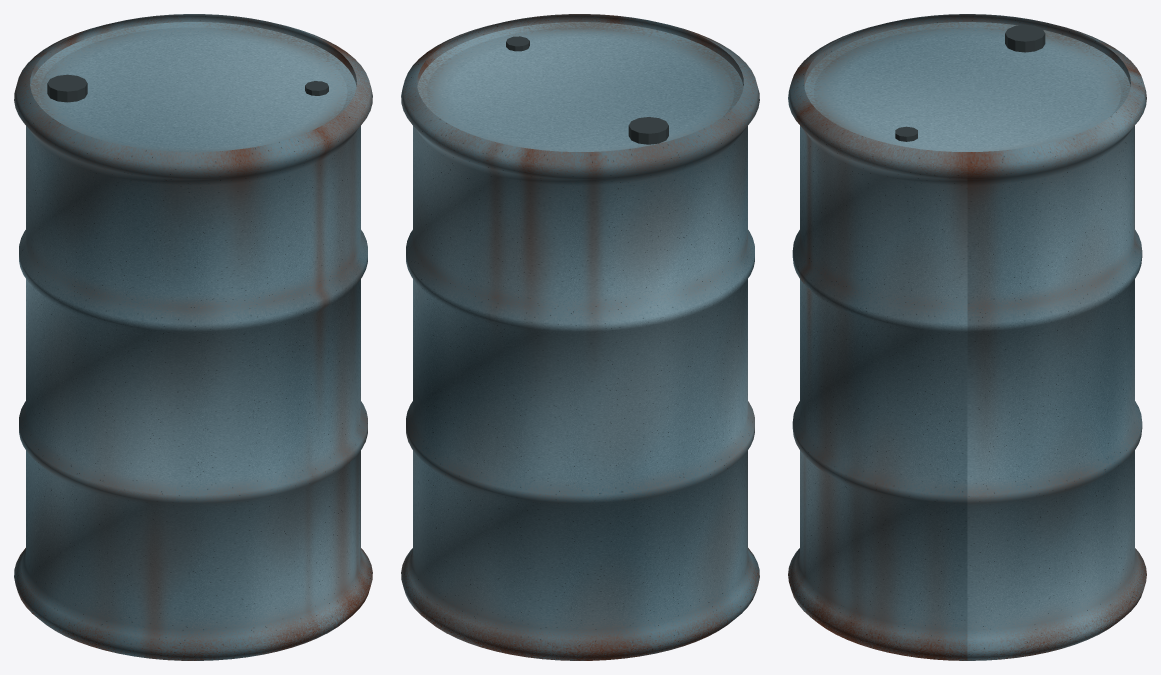
Rendered from FuelDrum_A.glb.
The picture shows the model from 3 angles, left to right: view 1: azimuth 30°, elevation 25°; view 2: azimuth 150°, elevation 25°; view 3: azimuth 270°, elevation 25°; orthographic projection.
Parts seen in each view (by area): view 1: FuelDrum_A; view 2: FuelDrum_A; view 3: FuelDrum_A.
Boxes of the visible parts, x1=… form: FuelDrum_A: x1=14, y1=14, x2=372, y2=660; FuelDrum_A: x1=401, y1=14, x2=759, y2=660; FuelDrum_A: x1=788, y1=14, x2=1146, y2=660.
Bounding box in the file's own units: 2.24 × 3.54 × 2.24.
Materials: 1 (1 with a texture image).
